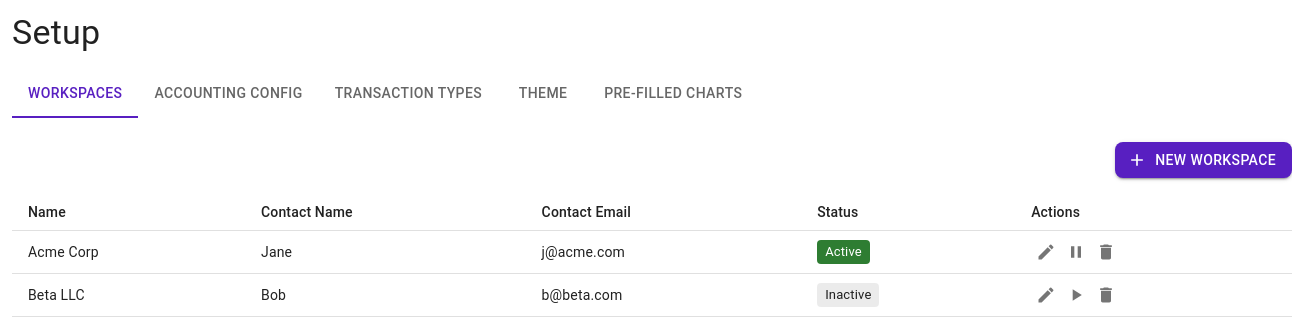
Test: SetupPage — loading / error states › shows error in Accounting Config tab
Click the tab with test id "tab-accounting-config".
click(229, 94)  # box [138,70,319,118]
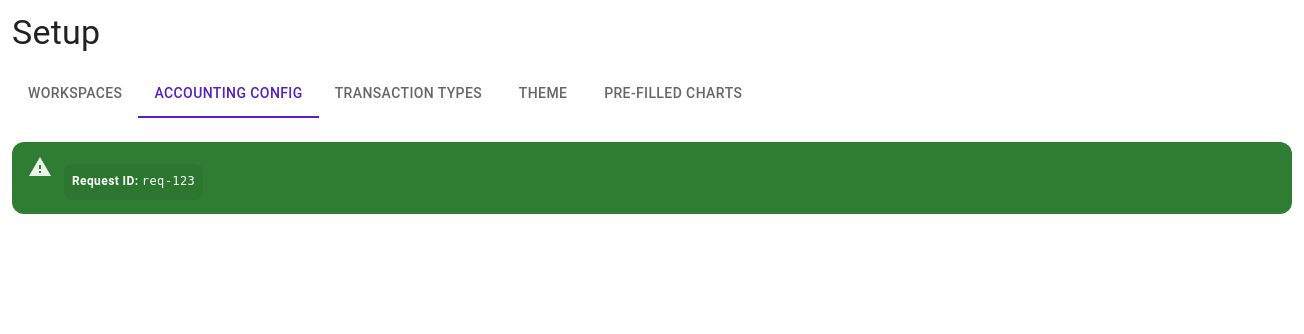
Expected: the message "Request ID: req-123" is shown, [12,142,1292,214]
